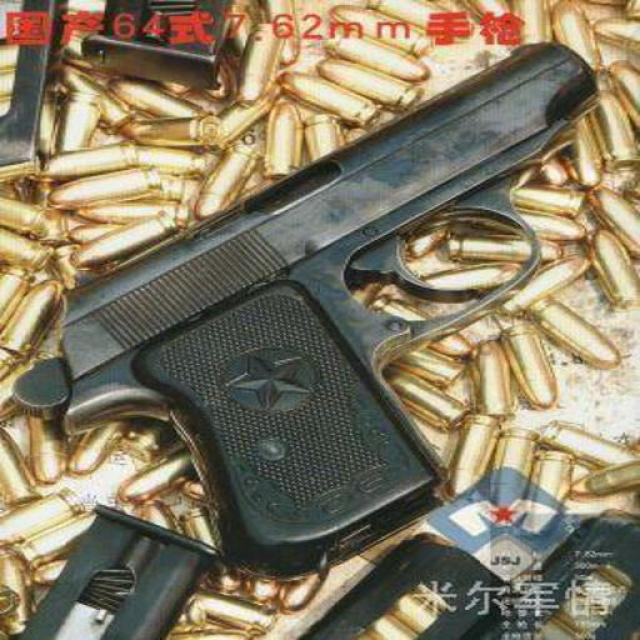pistol: (7, 37, 596, 571)
